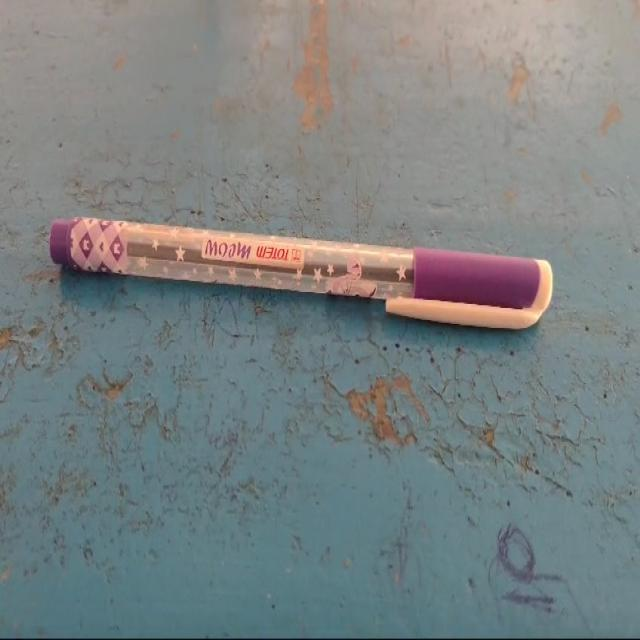pen: (35, 135, 596, 427)
